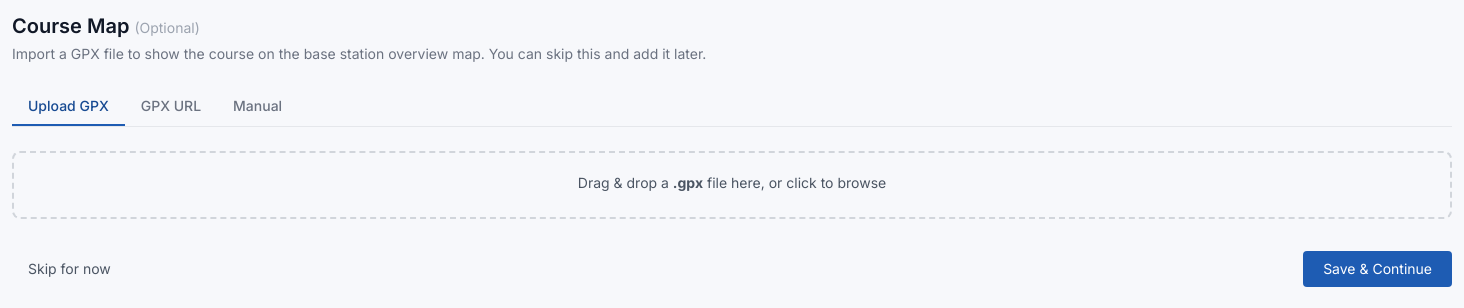
CourseMapStep › shows manual lat/lng inputs for each checkpoint on Manual tab
This screenshot has width=1464, height=308.
Click the tab "Manual". click: click(258, 107)
box: [217,88,298,126]
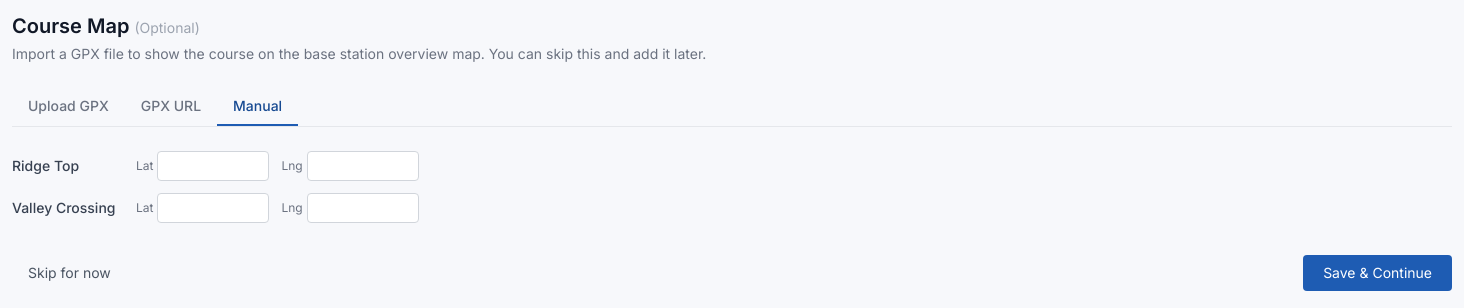
Expected: the number field labelled "Lat" in the row of "Ridge Top" is shown, [158,151,270,181]
Expected: the number field labelled "Lat" in the row of "Valley Crossing" is shown, [158,193,270,223]
